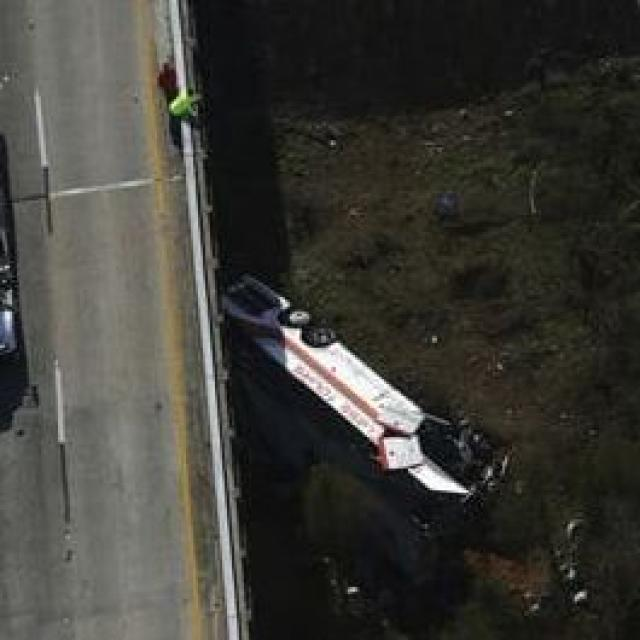traffic_incident: (212, 251, 502, 582)
